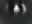person: (14, 5, 21, 17), (22, 4, 28, 16)
